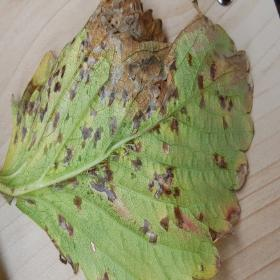Angular Leafspot: (0, 0, 255, 279)
